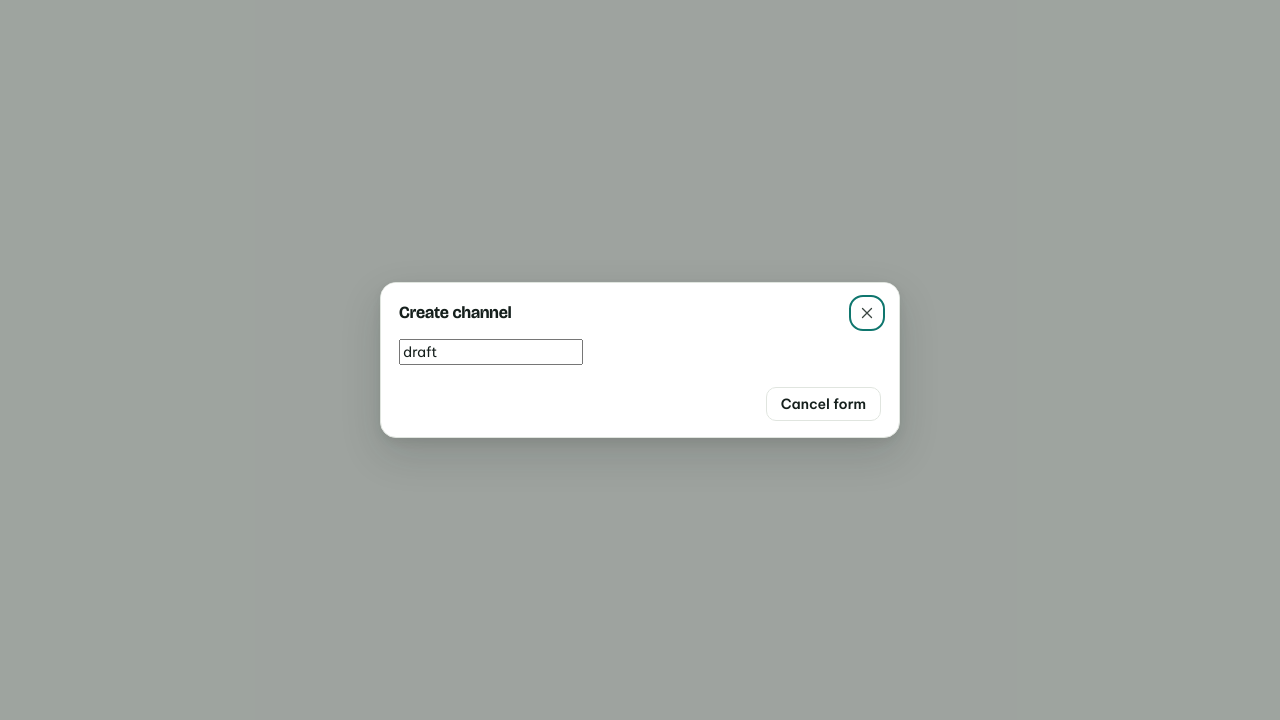
Scenario: a form with content › the close button and the form's Cancel ask whether to discard
Click the button named "Close". click: {"x": 867, "y": 313}
box: left=853, top=299, right=881, bottom=327
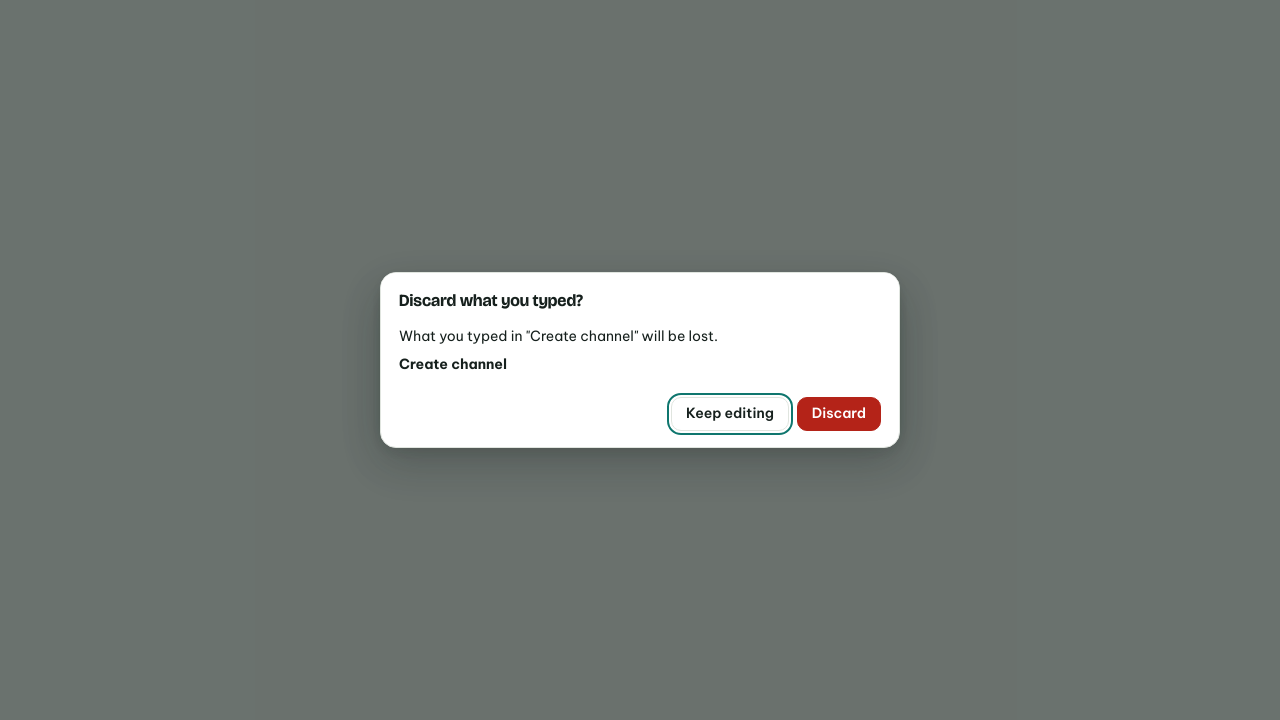
Now the heading "Discard what you typed?" is shown, box left=399, top=290, right=583, bottom=311
Keep editing, then ask again through the form's Cancel.
Click the button "Keep editing". click: {"x": 730, "y": 414}
box: left=671, top=397, right=789, bottom=431
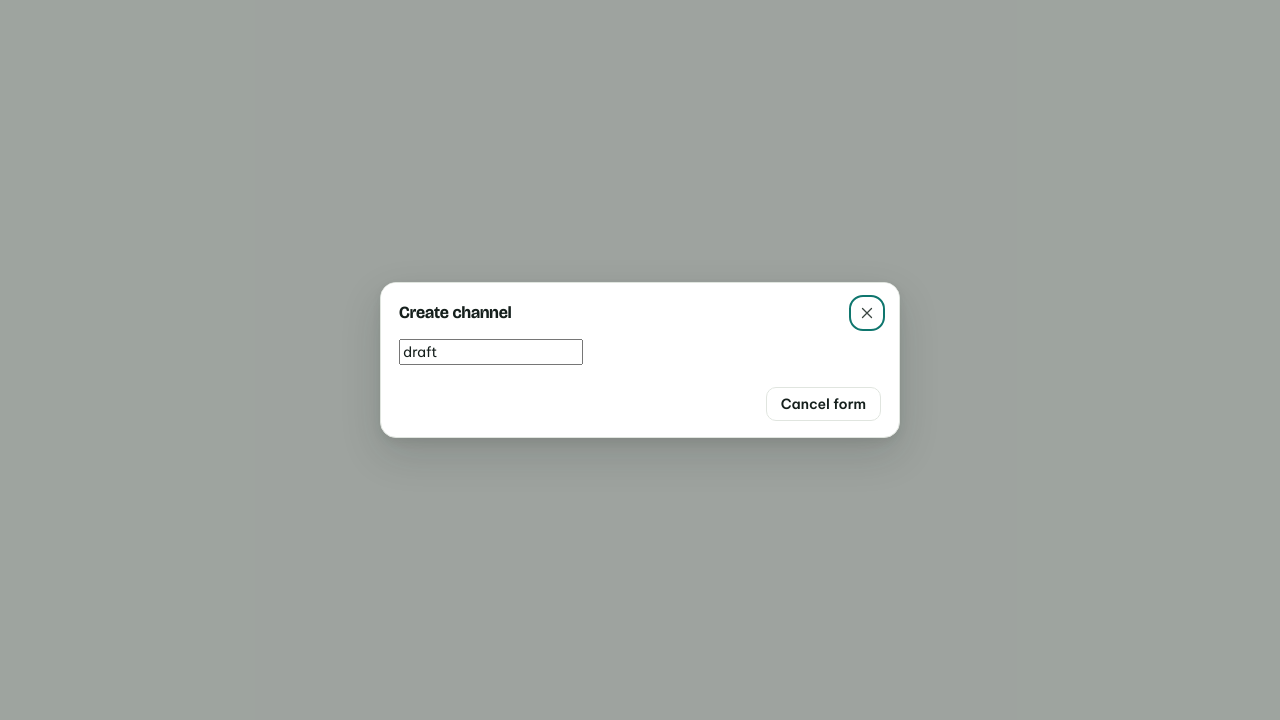
Now the heading "Discard what you typed?" is gone
Click the button "Cancel form". click: {"x": 823, "y": 404}
box: left=766, top=387, right=881, bottom=421
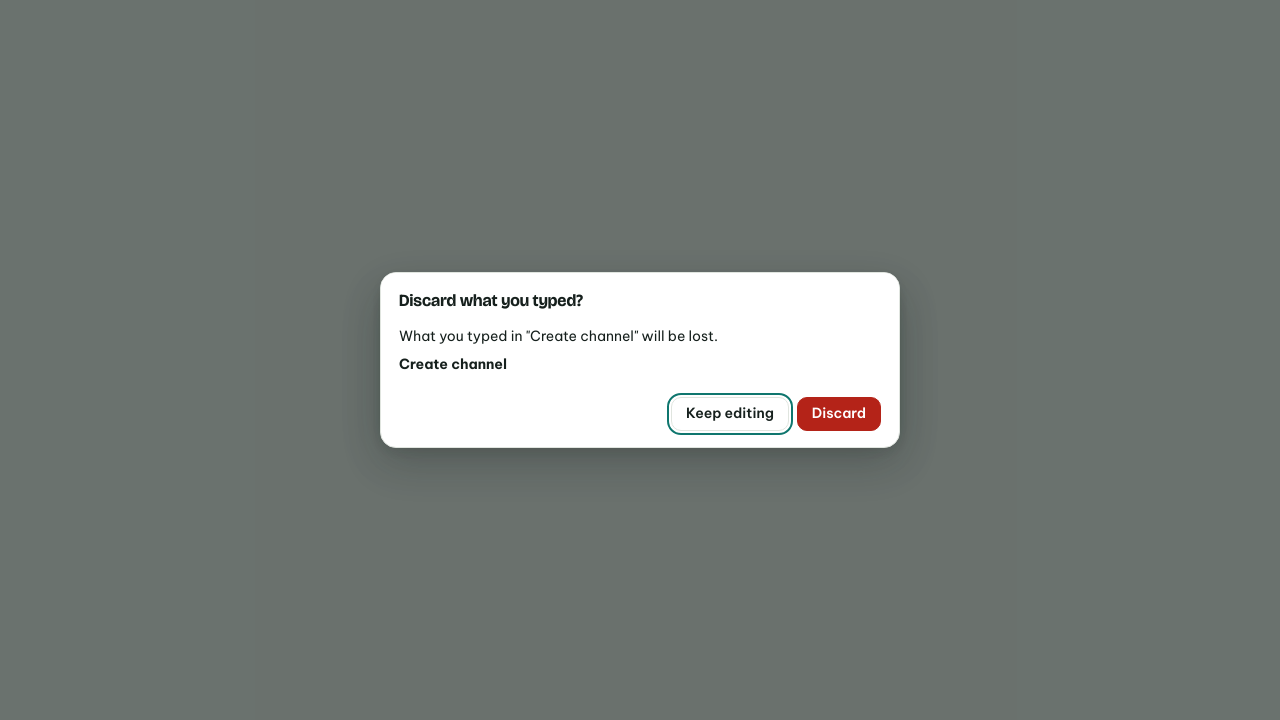
Now the heading "Discard what you typed?" is shown, box left=399, top=290, right=583, bottom=311
